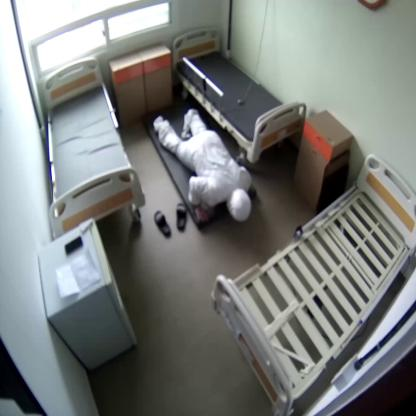Bed: (172, 27, 308, 156)
Person: (155, 109, 252, 222)
